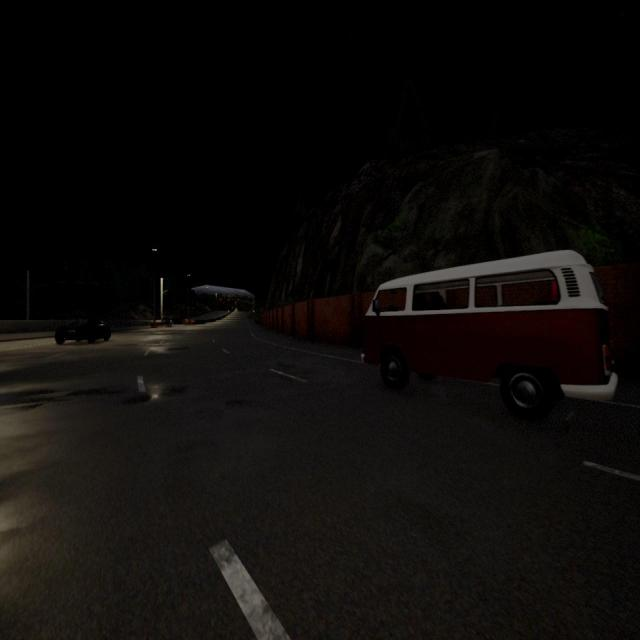Vehicle: (361, 253, 614, 411), (53, 318, 111, 347)
traffic_light: (252, 309, 254, 314), (220, 298, 222, 303), (228, 298, 229, 303), (238, 299, 239, 303)
